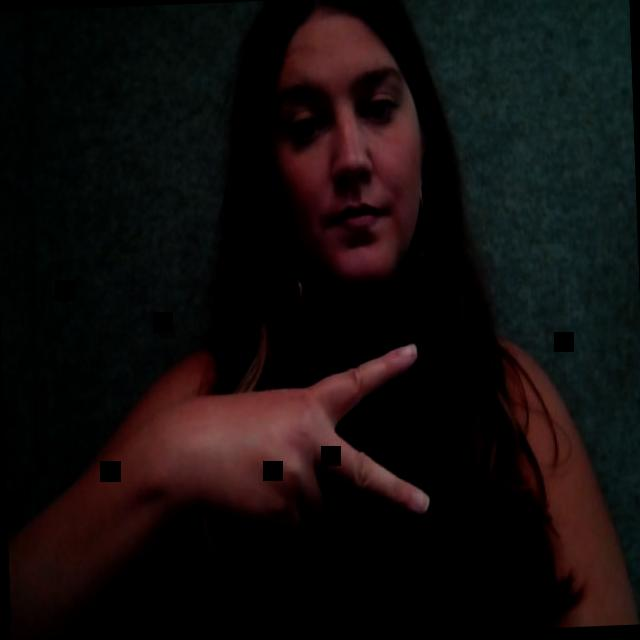Scissors: (130, 329, 454, 603)
